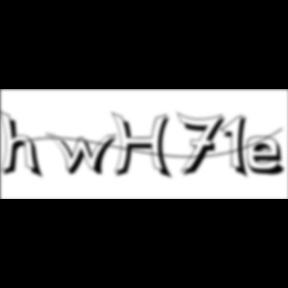1: (218, 114, 253, 182)
7: (177, 111, 232, 179)
H: (112, 112, 178, 182)
h: (0, 108, 46, 182)
w: (46, 132, 124, 178)
